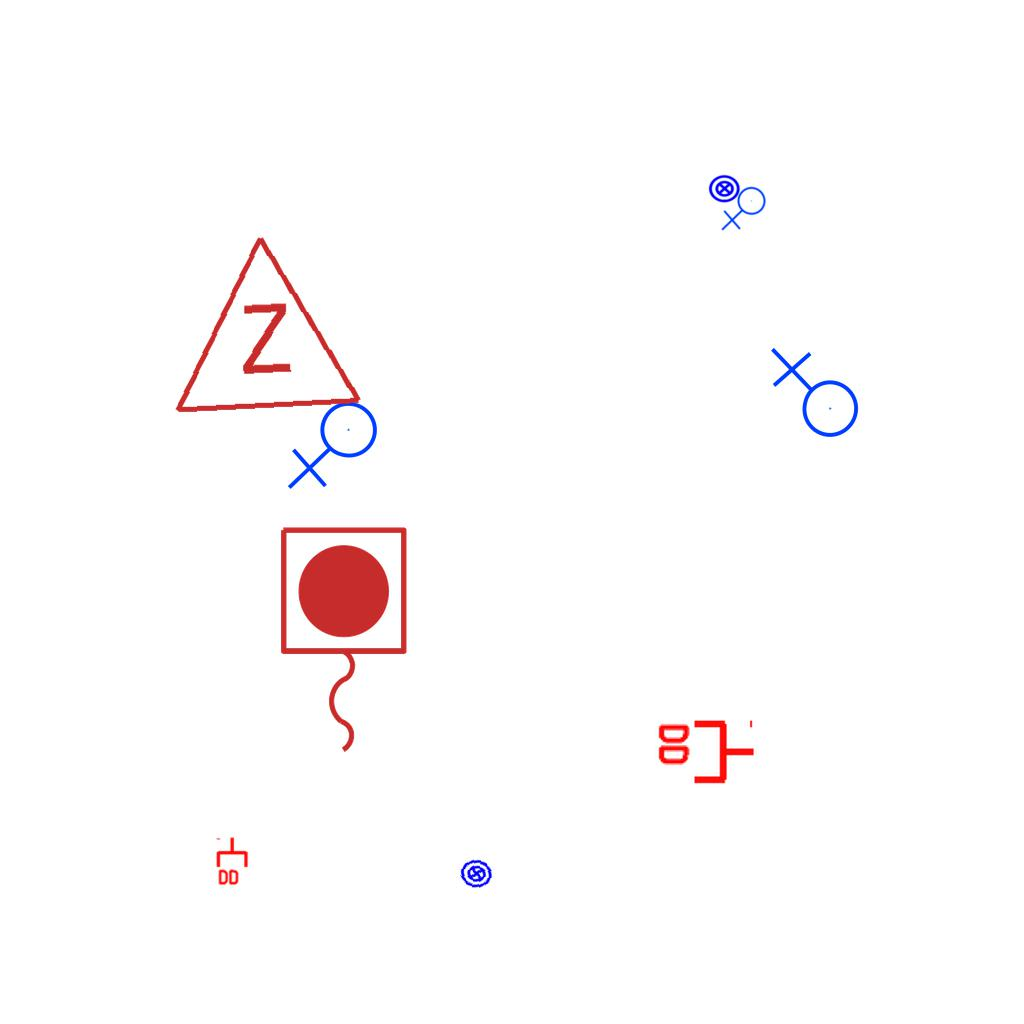Datenanschluss_zweifach: (654, 719, 757, 788), (216, 836, 250, 887)
Elektroanschluss_allgemein_230V_Geraeteanschlussdose_230V: (287, 400, 386, 494), (766, 347, 860, 446), (721, 186, 770, 233)
Taster_beleuchtet: (457, 854, 496, 893), (708, 172, 741, 205)
Zimmersignalleuchte: (158, 218, 366, 428)
Zugtaster: (270, 519, 414, 763)
